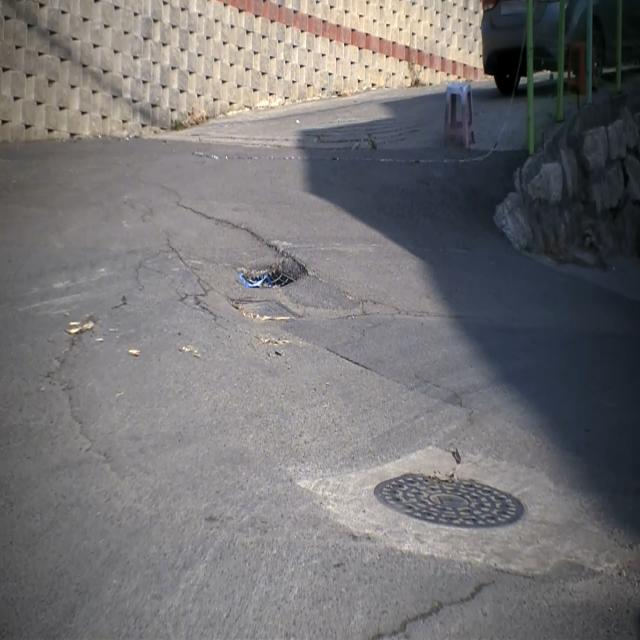Pothole: (222, 233, 324, 305)
